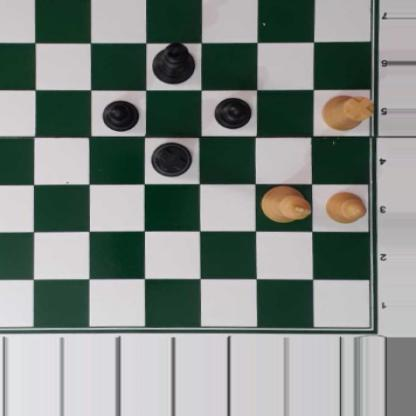black-king: (151, 43, 195, 85)
black-pawn: (100, 100, 140, 133), (214, 95, 251, 129)
black-rook: (152, 143, 192, 177)
white-king: (258, 187, 312, 223)
white-pawn: (325, 191, 367, 223)
white-rook: (321, 94, 373, 130)
